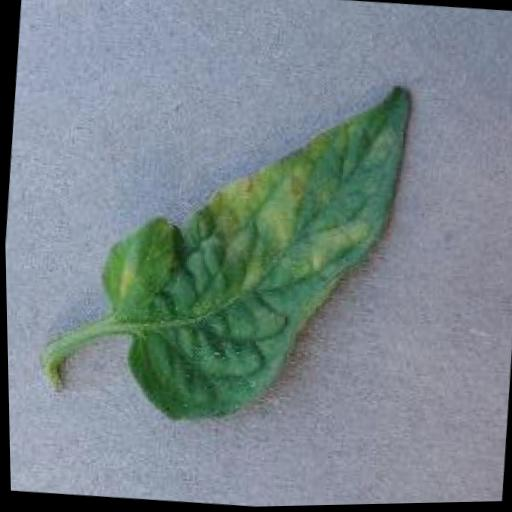Leaf Mold: (88, 64, 425, 439)
